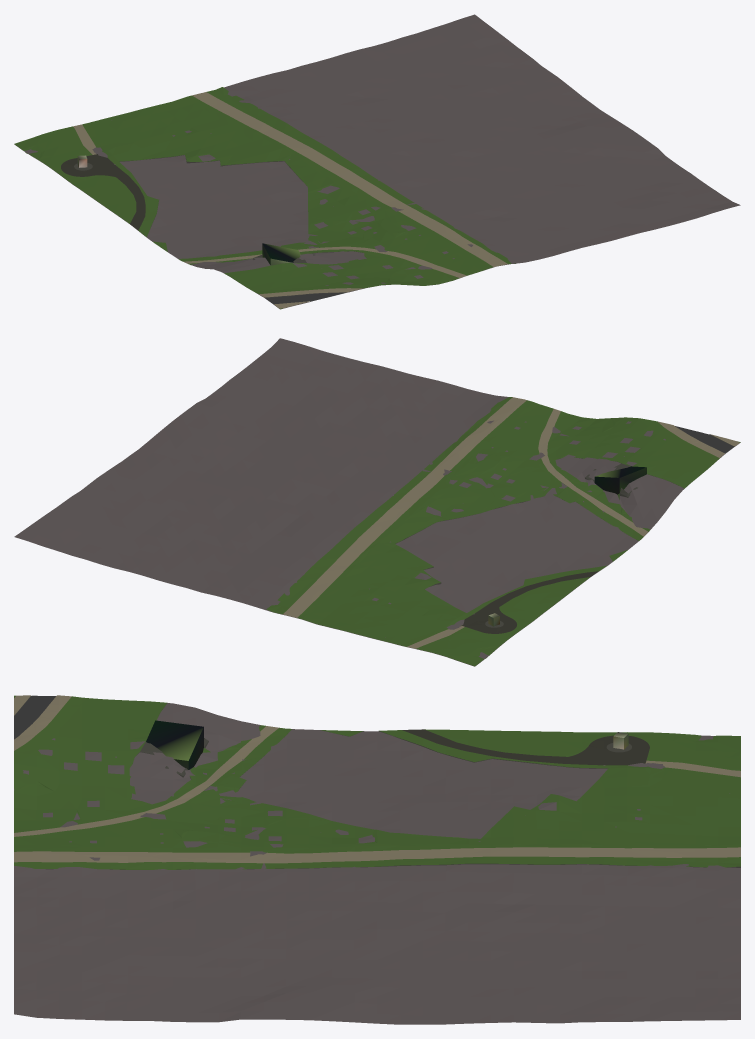
3 renders of one model, top to bottom at view 1: azimuth 30°, elevation 25°; view 2: azimuth 150°, elevation 25°; view 3: azimuth 270°, elevation 25°, orthographic. The views are drawn at different scales.
Parts seen in each view (by area): view 1: c_m16_p01; view 2: c_m16_p01; view 3: c_m16_p01.
Part boxes in pixels (x1,y1,x2,y2): c_m16_p01: (14, 14, 740, 309); c_m16_p01: (14, 338, 740, 666); c_m16_p01: (14, 695, 740, 1024).
Size of the model in its own units: 128 by 8.58 by 128.
